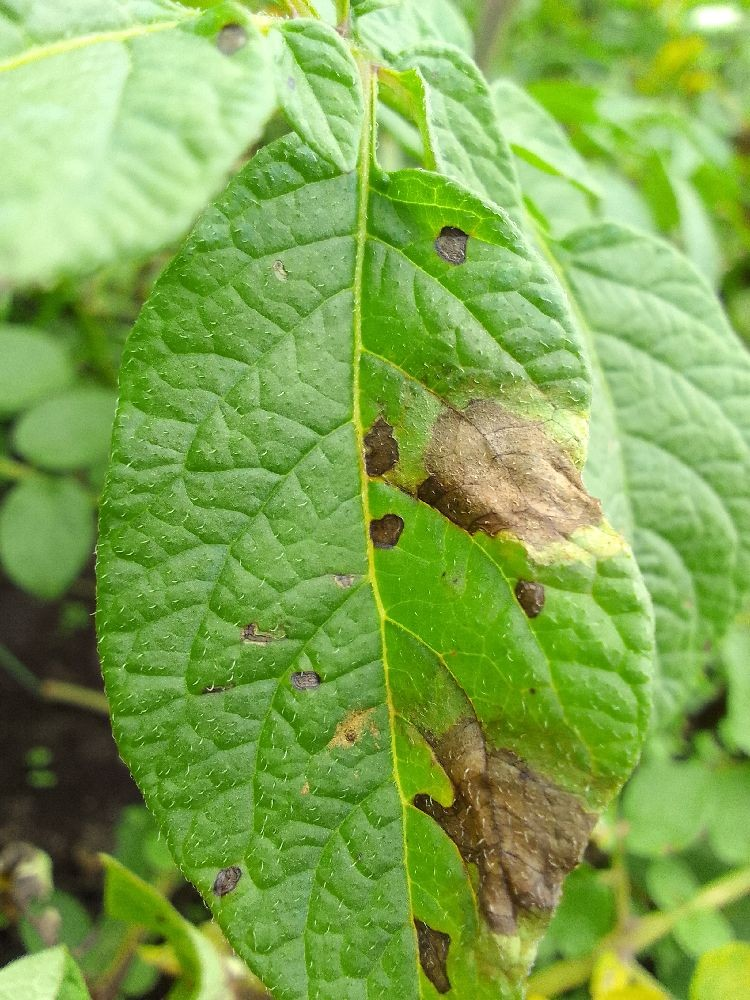late_blight: (334, 368, 630, 580), (396, 700, 618, 954), (73, 918, 205, 1000)
